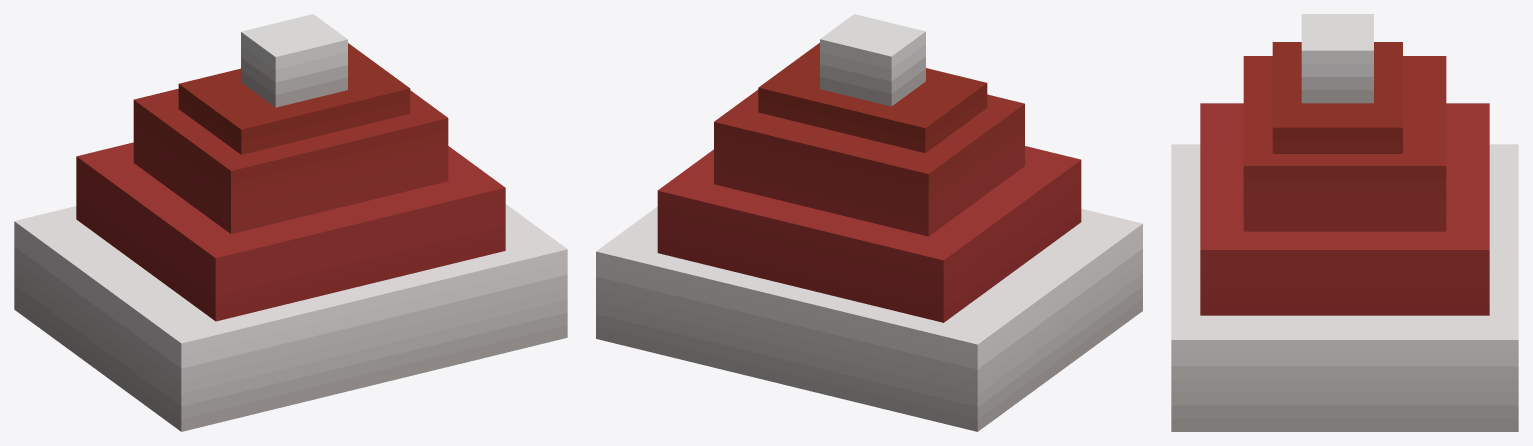
Rendered from Accessories042.fbx.
3 renders of one model, left to right at view 1: azimuth 30°, elevation 25°; view 2: azimuth 150°, elevation 25°; view 3: azimuth 270°, elevation 25°, orthographic. The views are drawn at different scales.
Visible parts, largest first — view 1: Accessories042; view 2: Accessories042; view 3: Accessories042.
Part boxes in pixels (left/top/right/bottom): Accessories042: left=14, top=14, right=567, bottom=431; Accessories042: left=596, top=14, right=1142, bottom=431; Accessories042: left=1171, top=14, right=1518, bottom=431.
Size of the model in its own units: 32.8 by 23.57 by 24.6.
